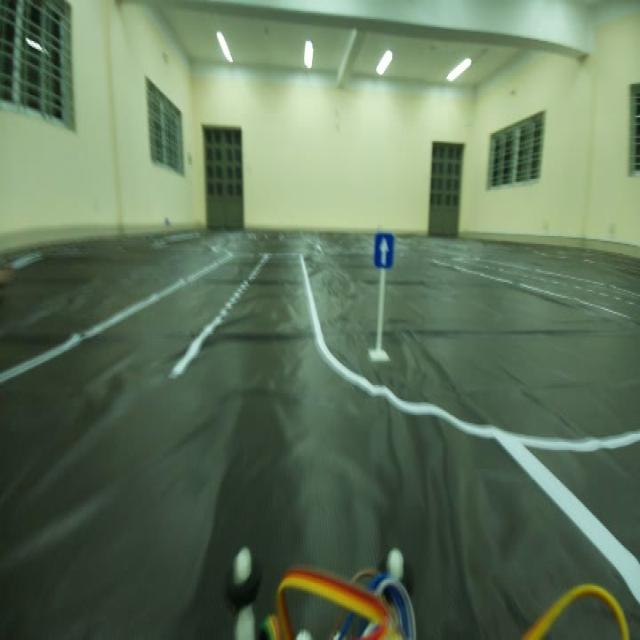onewayroad: (372, 222, 396, 282)
